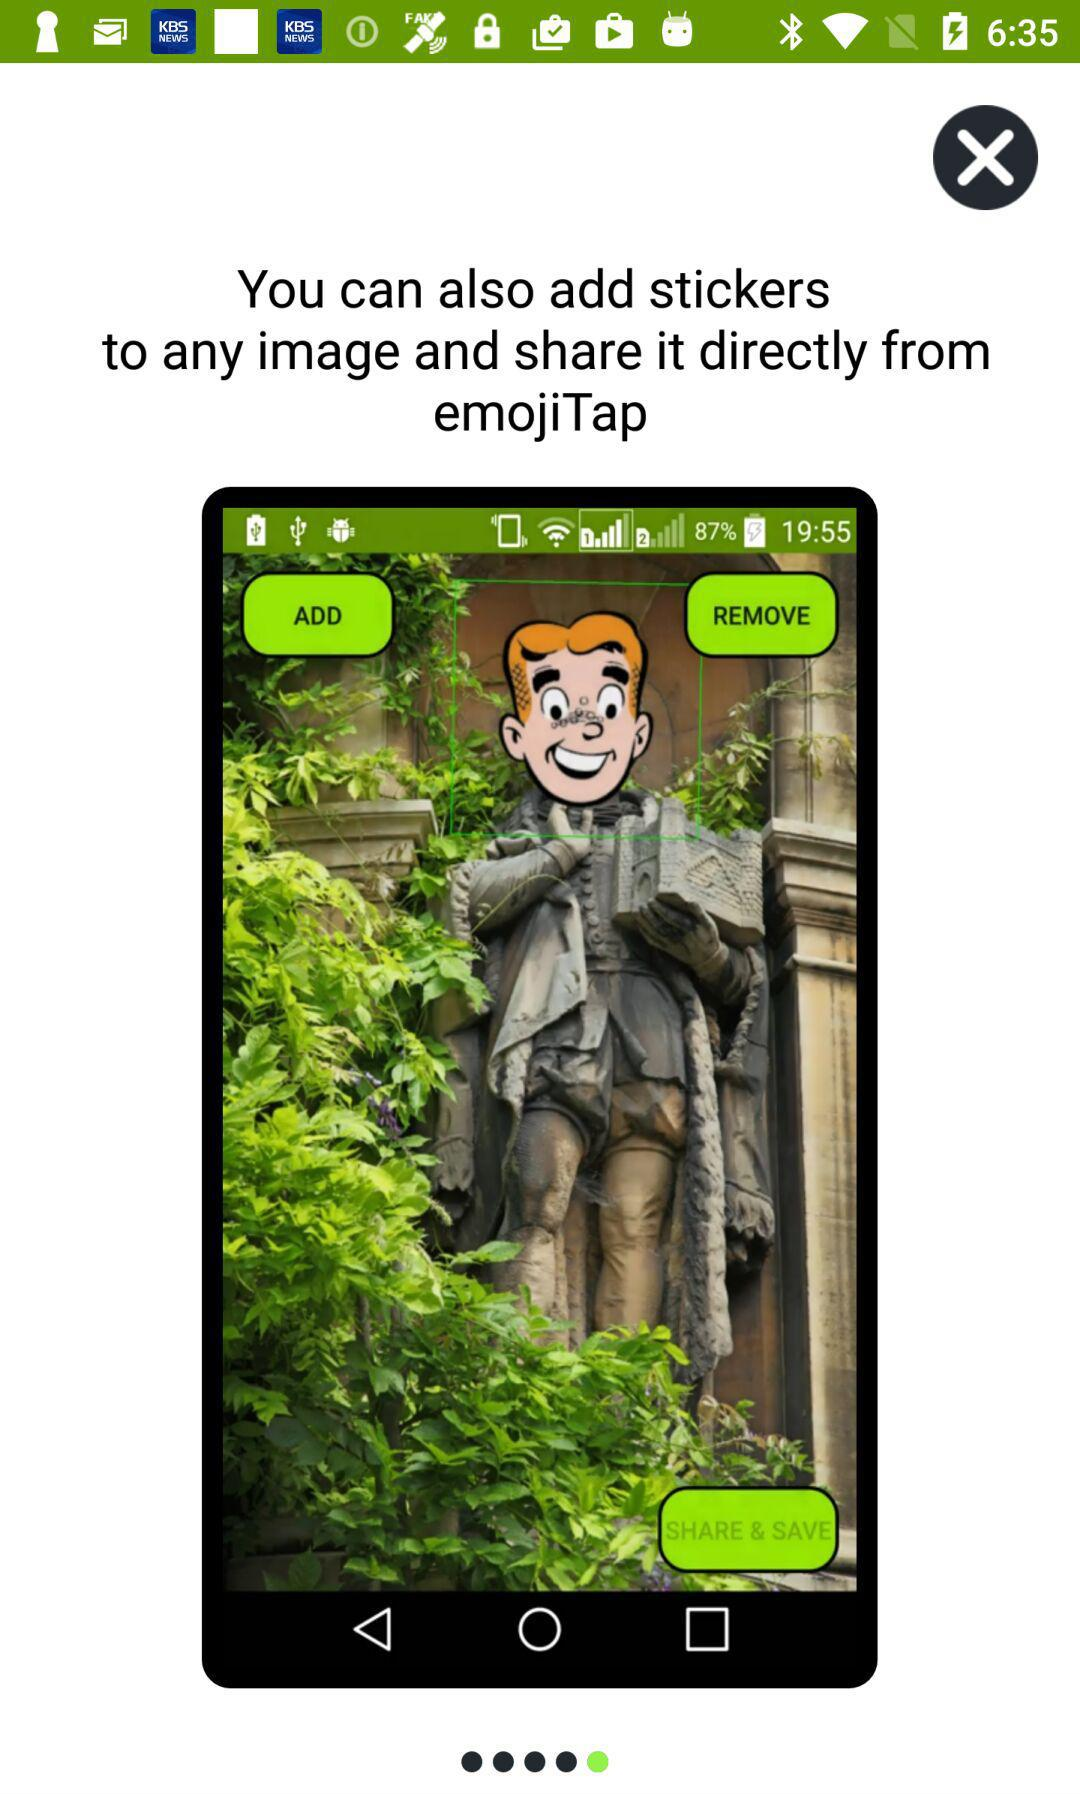Icon: (931, 105, 1039, 211)
Image: (202, 487, 878, 1689)
PageIndicator: (460, 1750, 609, 1773)
Text: (99, 267, 990, 443)
UpperTaskBar: (1, 1, 1080, 64)
